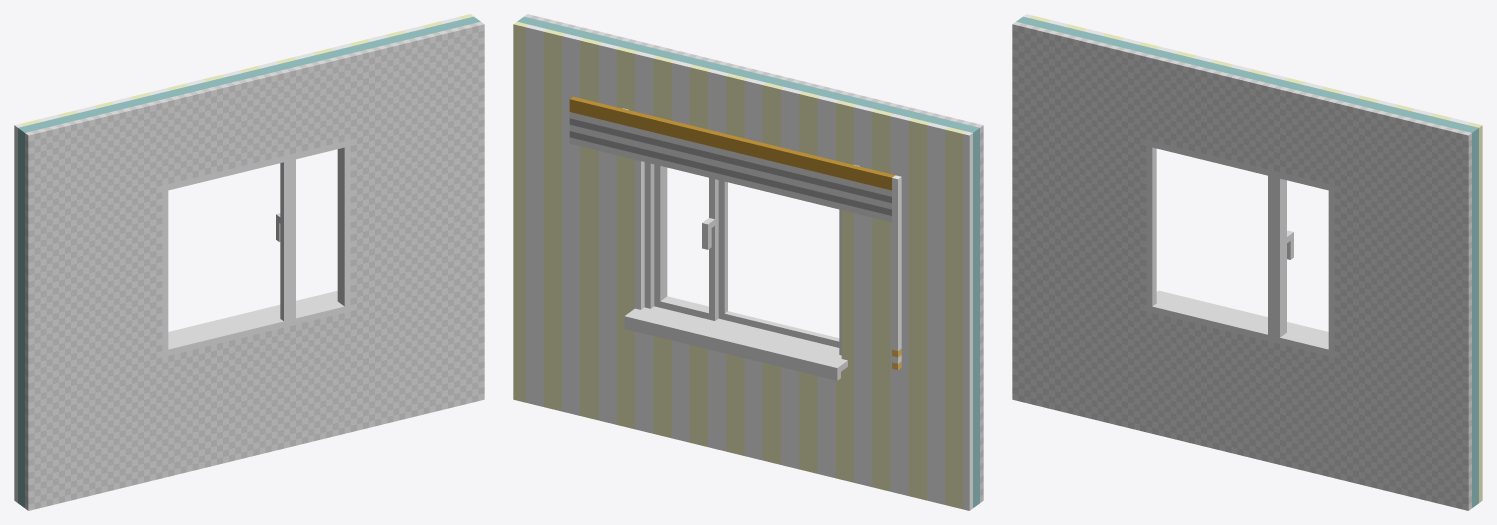
The model's file is window.glb.
3 renders of one model, left to right at view 1: azimuth 30°, elevation 25°; view 2: azimuth 150°, elevation 25°; view 3: azimuth 330°, elevation 25°, orthographic.
Parts seen in each view (by area): view 1: window; view 2: window; view 3: window.
Boxes of the visible parts, x1,y1,x2,y2 form: window: (14,14,484,510); window: (513,14,983,510); window: (1012,14,1482,510).
Size of the model in its own units: 7.5 by 5.9 by 0.7.
1 material, 1 textured.
